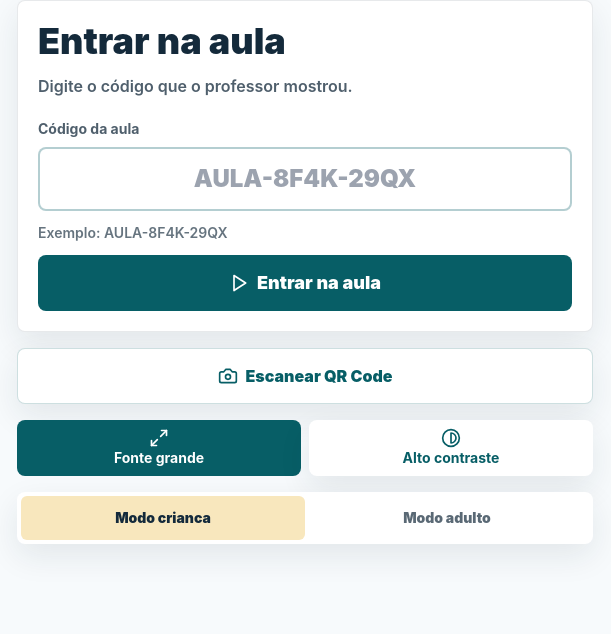
Scenario: student mobile entry › rejects invalid class codes
Type "123" into the field labelled "Código da aula" at (305, 179), box x1=38 y1=147 x2=572 y2=211
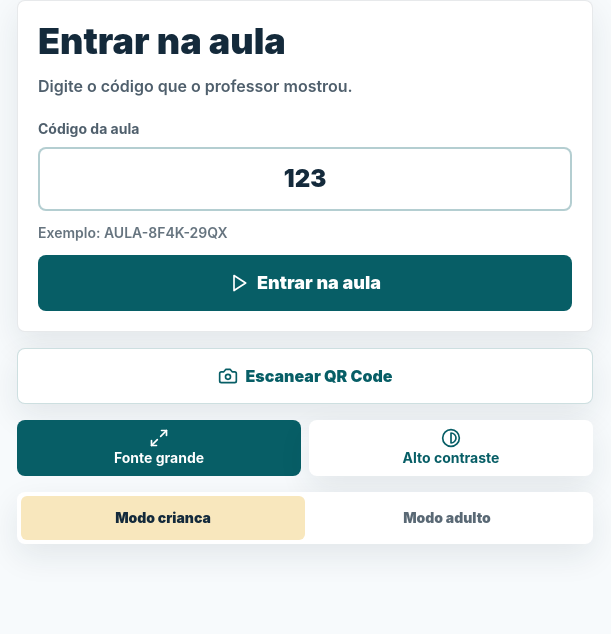
Click the button "Entrar na aula" at (305, 283), box x1=38 y1=255 x2=572 y2=311
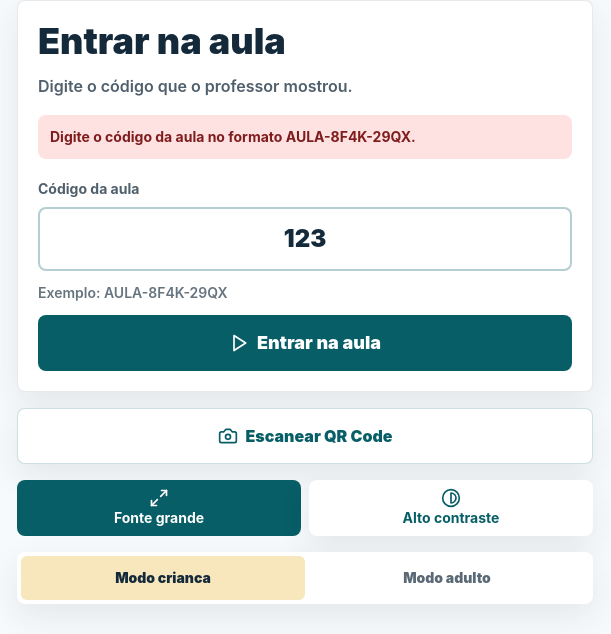
Expected: the message shows "AULA-8F4K-29QX", x1=50 y1=128 x2=416 y2=145
